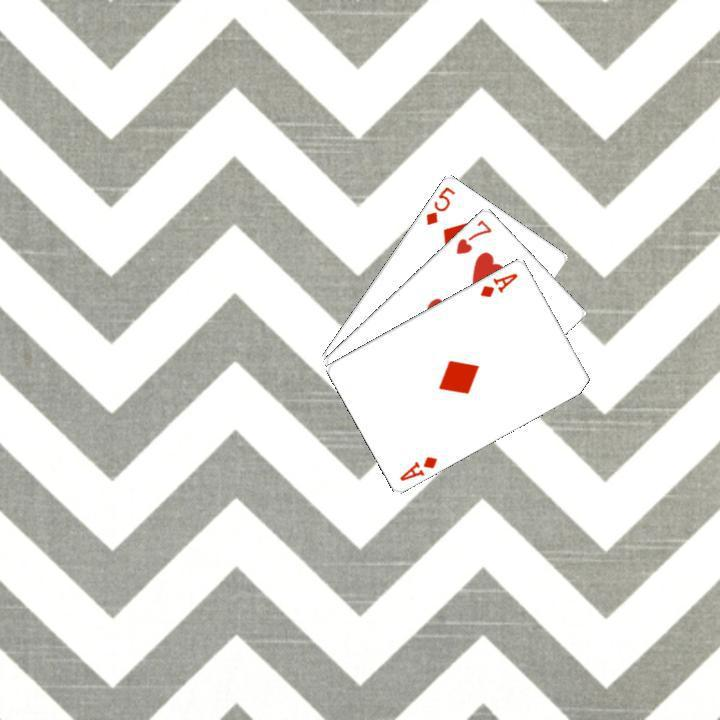5: (421, 182, 457, 227)
7: (451, 215, 494, 256)
A: (395, 451, 439, 483), (476, 268, 520, 299)
